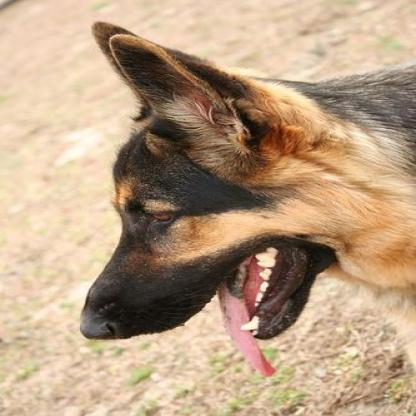German_shepherd: (75, 16, 412, 378)
